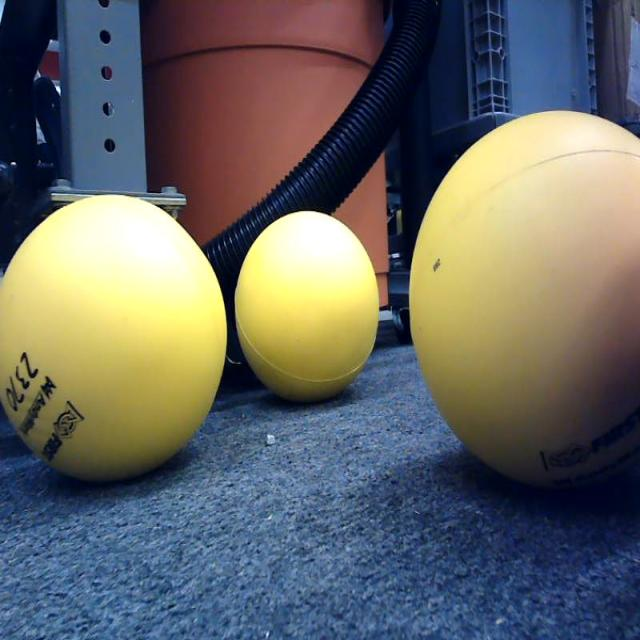Fuel: (408, 109, 640, 488), (0, 194, 227, 482), (234, 210, 379, 404)
